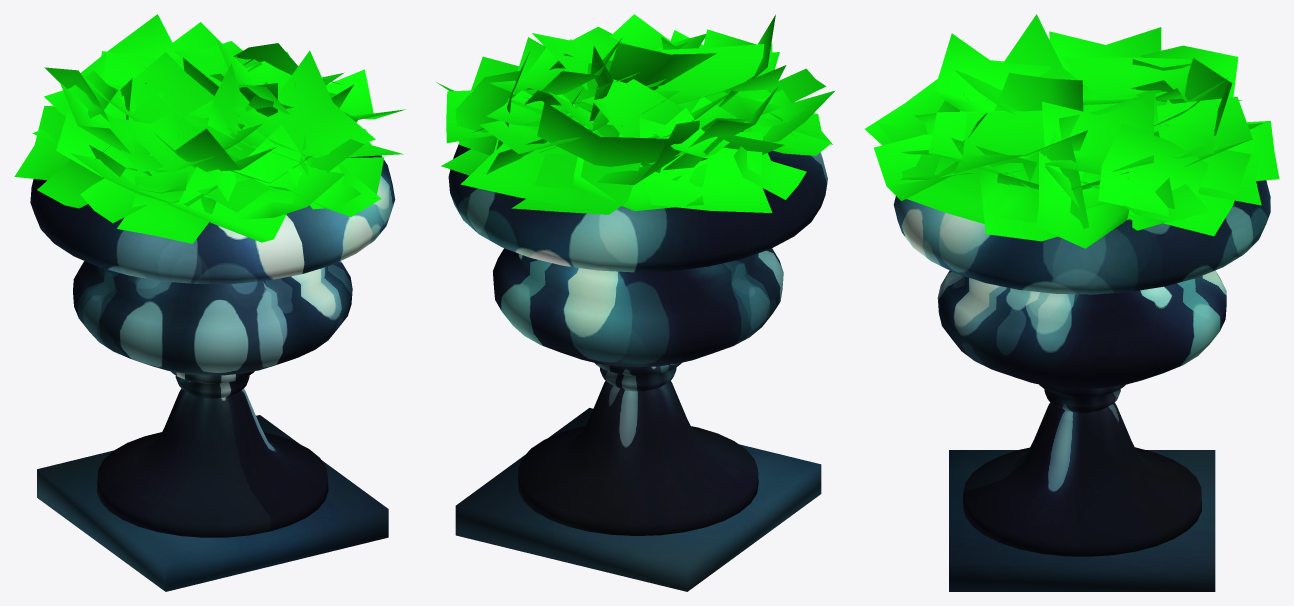
File: vase.obj
3 views of the same model, side by side, from view 1: azimuth 30°, elevation 25°; view 2: azimuth 150°, elevation 25°; view 3: azimuth 270°, elevation 25° (orthographic). The views are drawn at different scales.
Parts seen in each view (by area): view 1: sponza_372; view 2: sponza_372; view 3: sponza_372.
Part boxes in pixels (x1,y1,x2,y2): sponza_372: [14, 14, 405, 591]; sponza_372: [436, 14, 834, 591]; sponza_372: [865, 14, 1279, 591].
Size of the model in its own units: 9.1 by 11.65 by 9.37.
